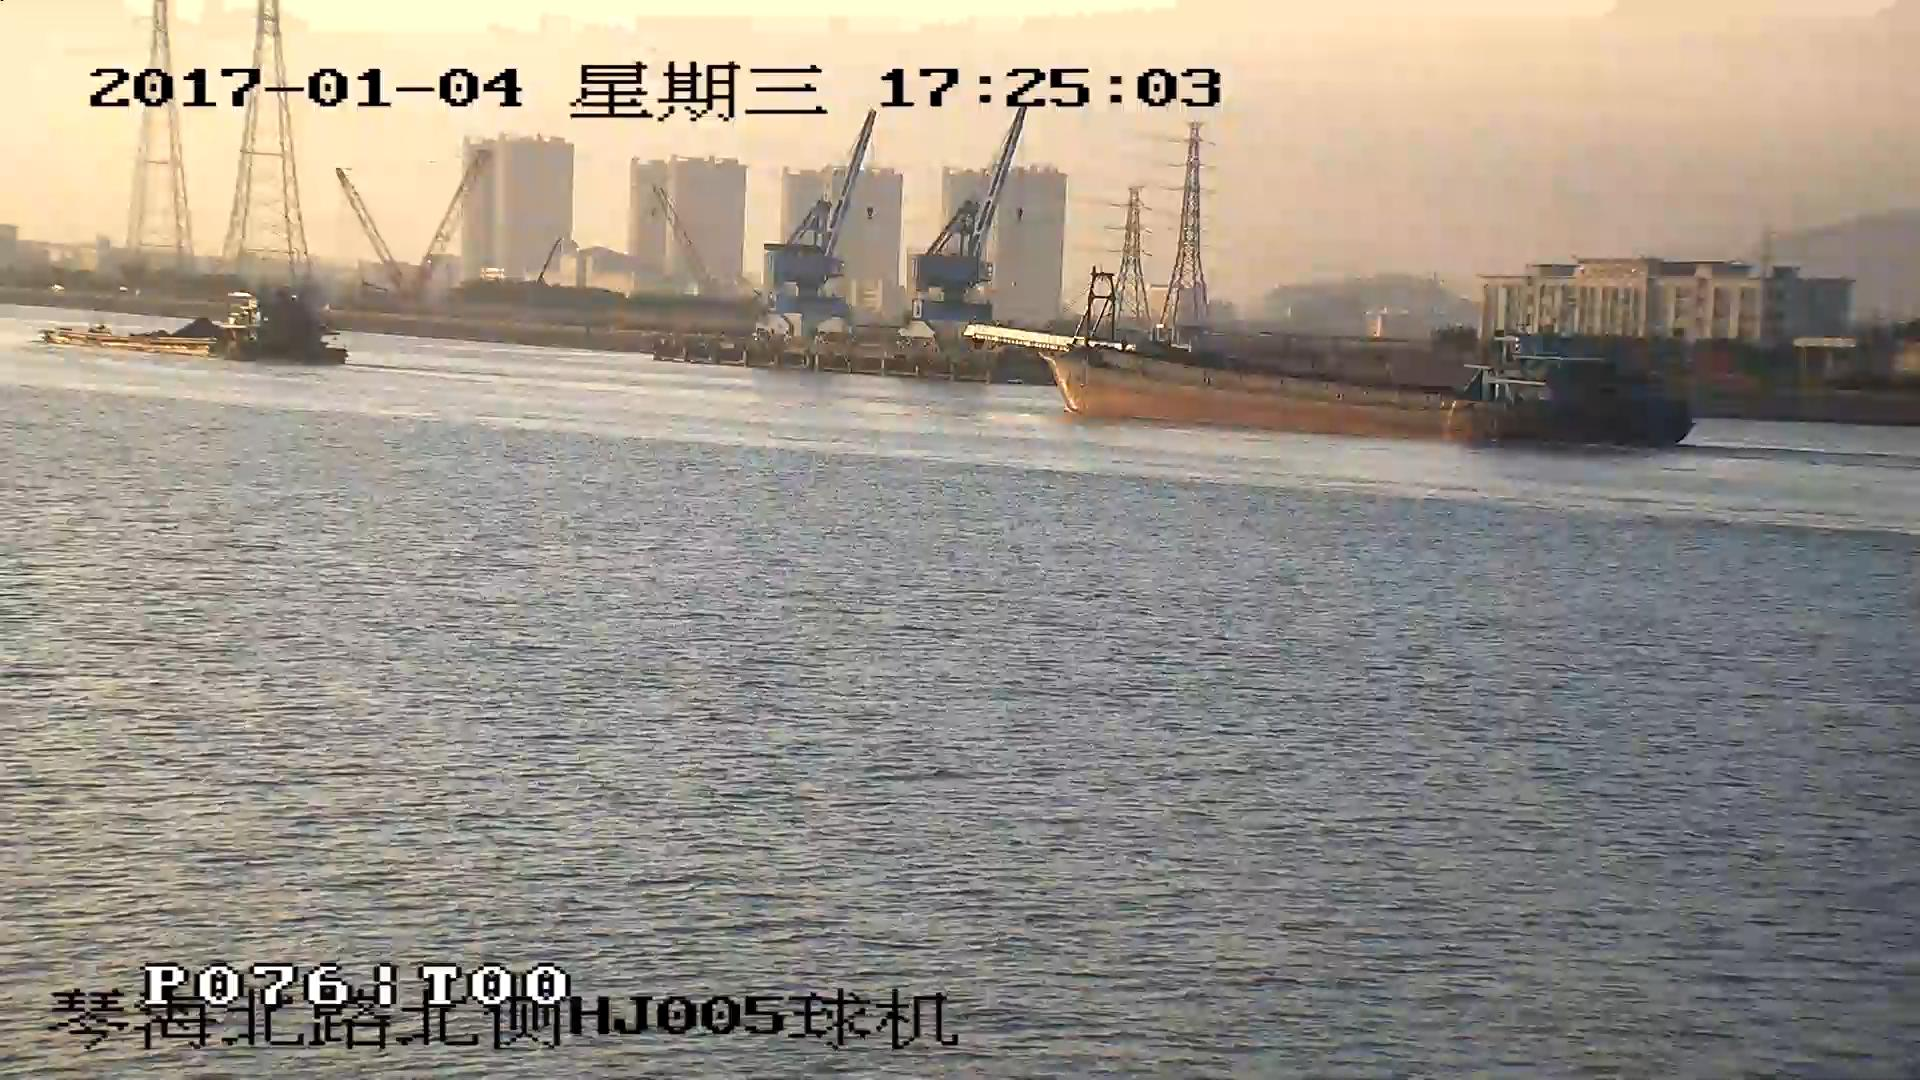bulk cargo carrier: (971, 323, 1691, 445)
ore carrier: (34, 302, 342, 365)
